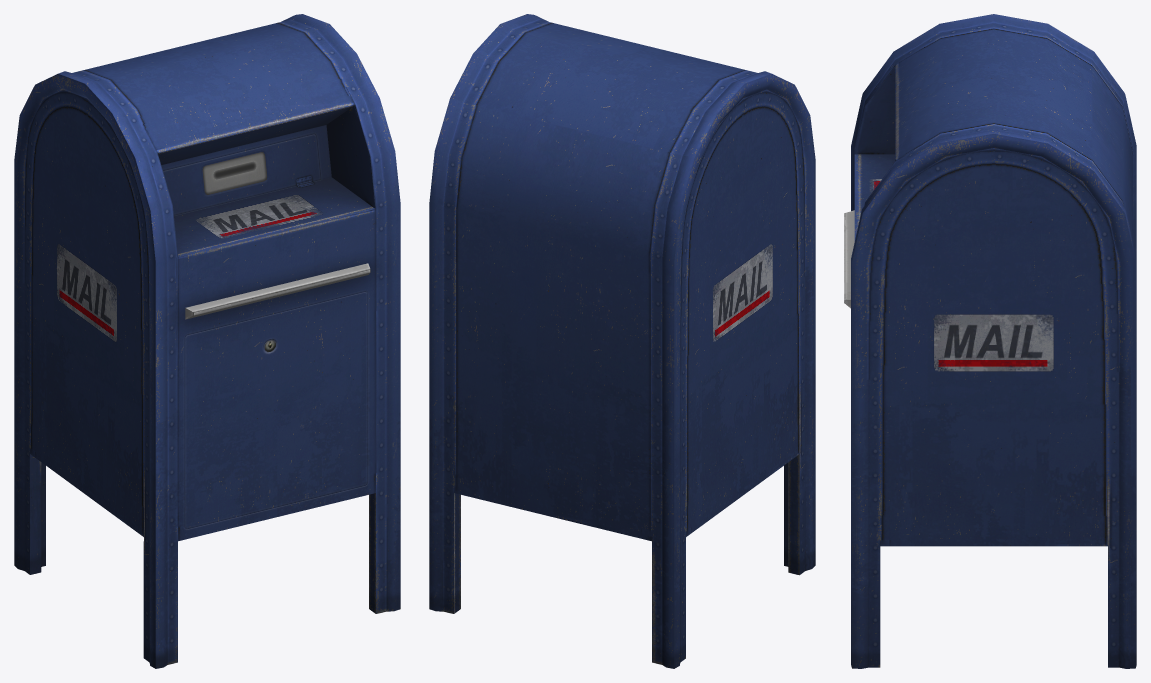
The model's file is Mailbox.fbx.
3 renders of one model, left to right at view 1: azimuth 30°, elevation 25°; view 2: azimuth 150°, elevation 25°; view 3: azimuth 270°, elevation 25°, orthographic.
Parts seen in each view (by area): view 1: mailbox; view 2: mailbox; view 3: mailbox.
Boxes of the visible parts, x1,y1,x2,y2 form: mailbox: [14, 14, 400, 668]; mailbox: [429, 14, 815, 668]; mailbox: [844, 14, 1136, 668].
Bounding box in the file's own units: 7.35 × 15.2 × 7.52.
Materials: 1 (1 with a texture image).
